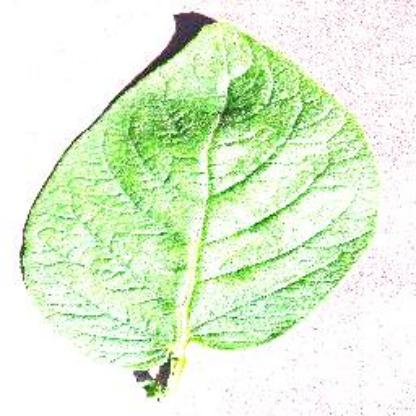Healthy-plant: (25, 18, 392, 394)
